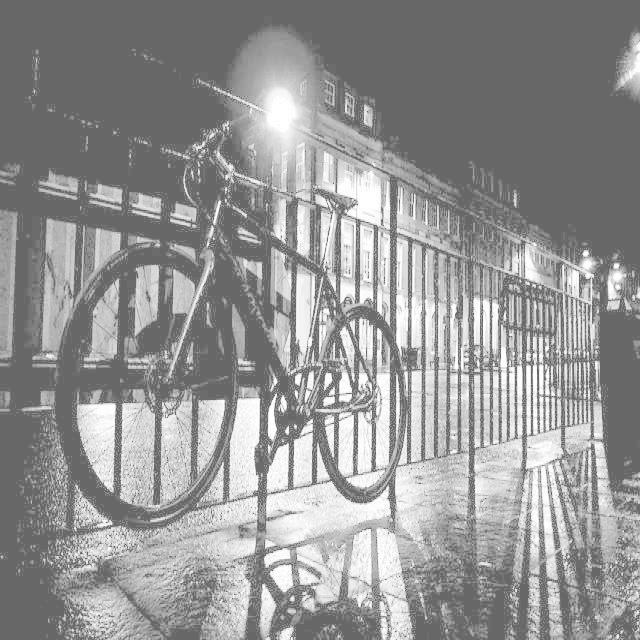Bicycle: (75, 167, 434, 542)
